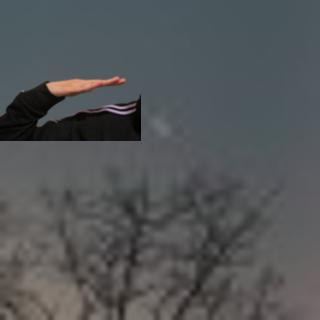Wait: (47, 73, 129, 101)
